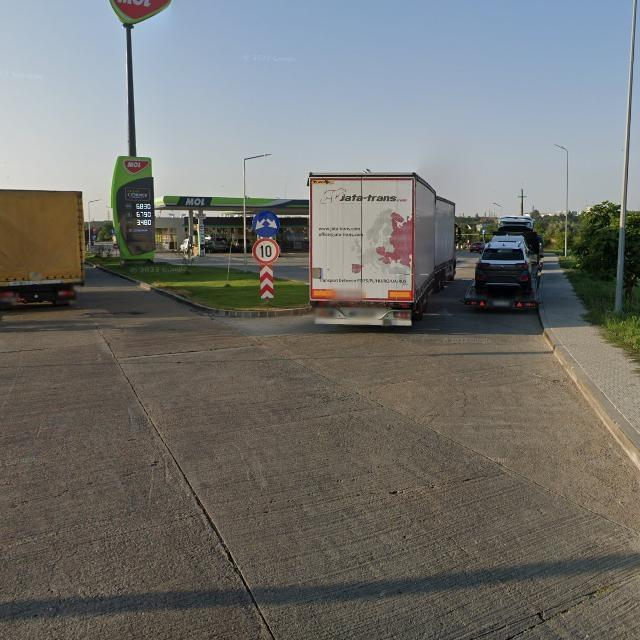forb_speed_over_10: (253, 238, 280, 265)
